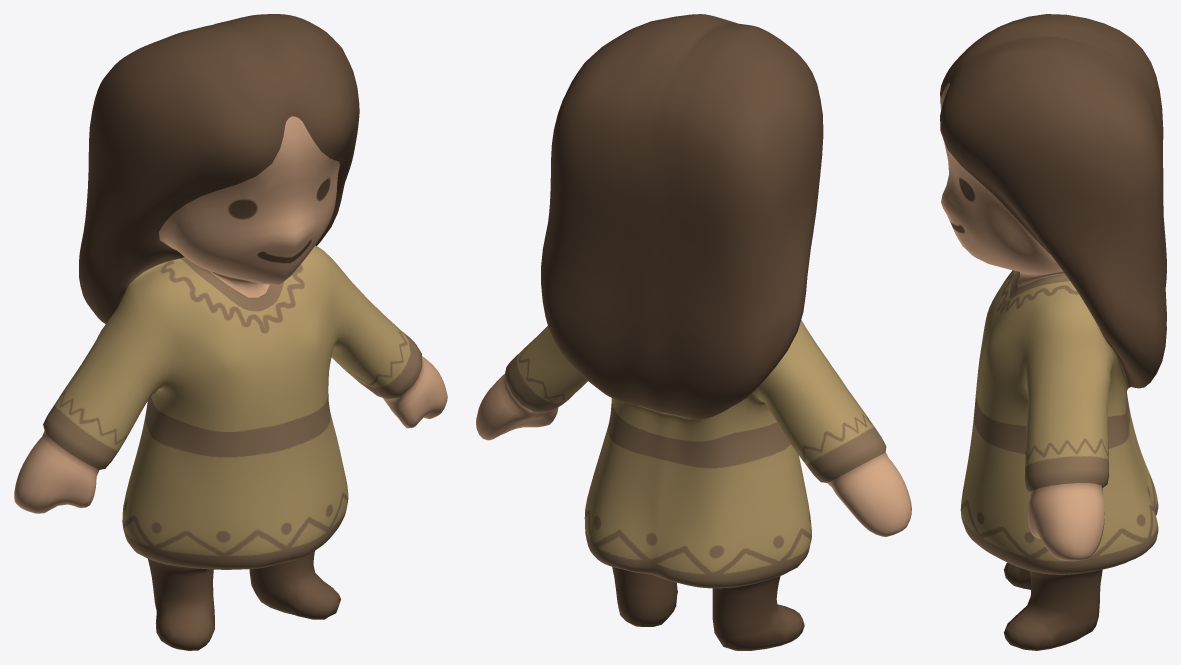
The model's file is aldeana_appExpo.glb.
3 renders of one model, left to right at view 1: azimuth 30°, elevation 25°; view 2: azimuth 150°, elevation 25°; view 3: azimuth 270°, elevation 25°, orthographic. The views are drawn at different scales.
Parts seen in each view (by area): view 1: aldeanaF; view 2: aldeanaF; view 3: aldeanaF.
Part boxes in pixels (x1=…): aldeanaF: x1=14, y1=14, x2=447, y2=650; aldeanaF: x1=476, y1=14, x2=911, y2=650; aldeanaF: x1=940, y1=14, x2=1166, y2=650.
Bounding box in the file's own units: 0.7365 × 0.9772 × 0.3468.
Materials: 1 (1 with a texture image).
